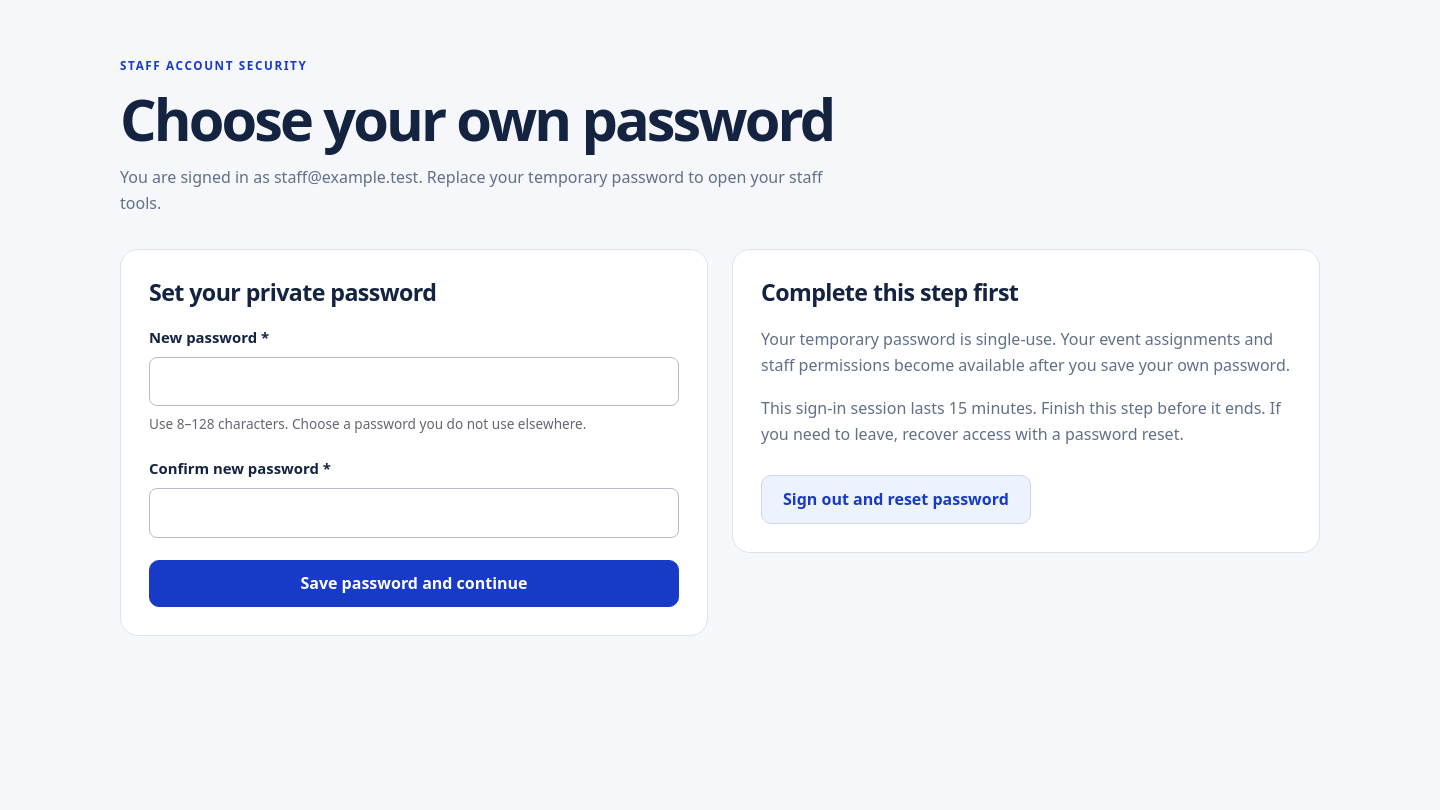
Test: rejects invalid password length before requesting change
The width and height of the screenshot is (1440, 810).
Type "short" into the password field named "newPassword". click: {"x": 414, "y": 382}
box: [149,357,679,406]
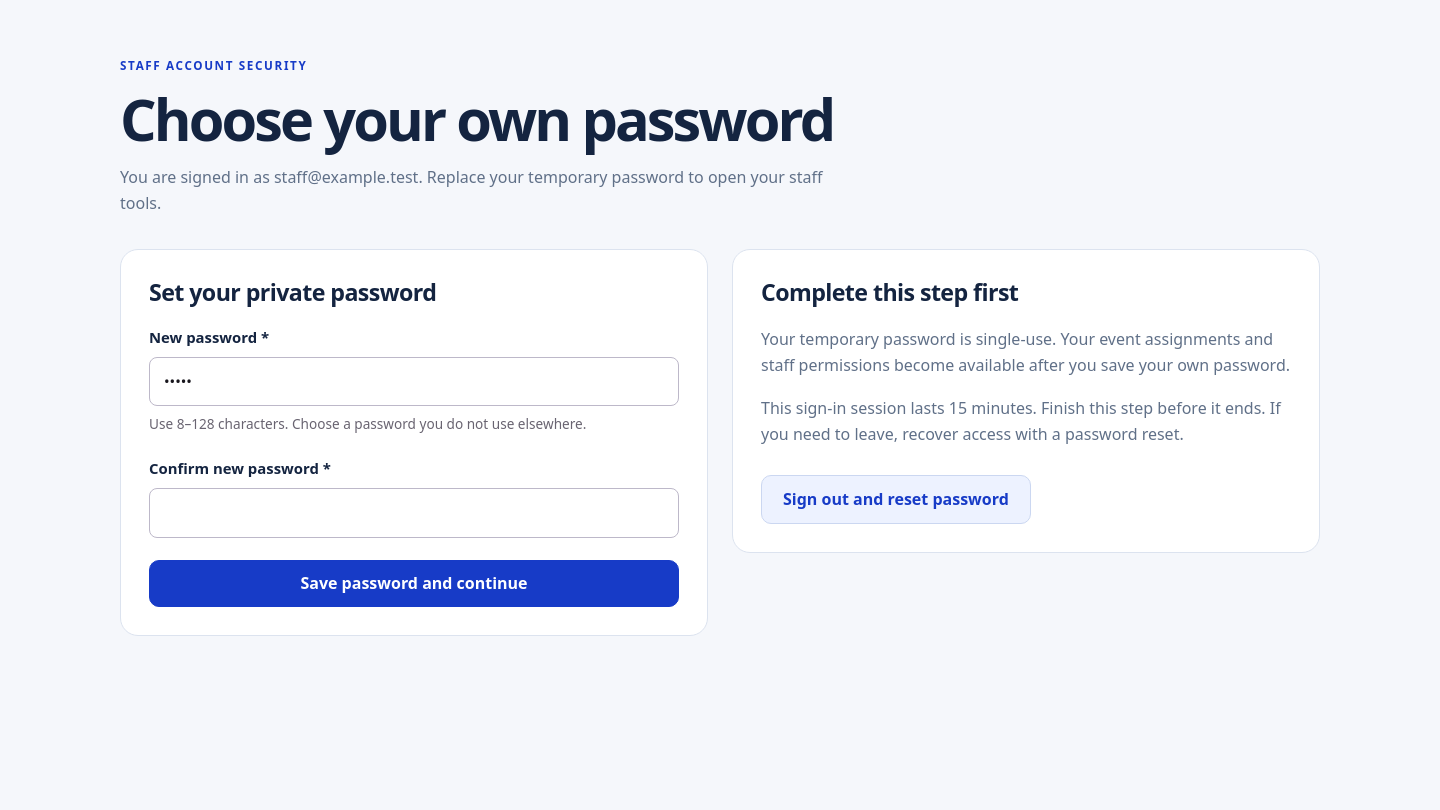
Type "short" into the password field labelled "Confirm new password *". click: {"x": 414, "y": 513}
box: [149,488,679,538]
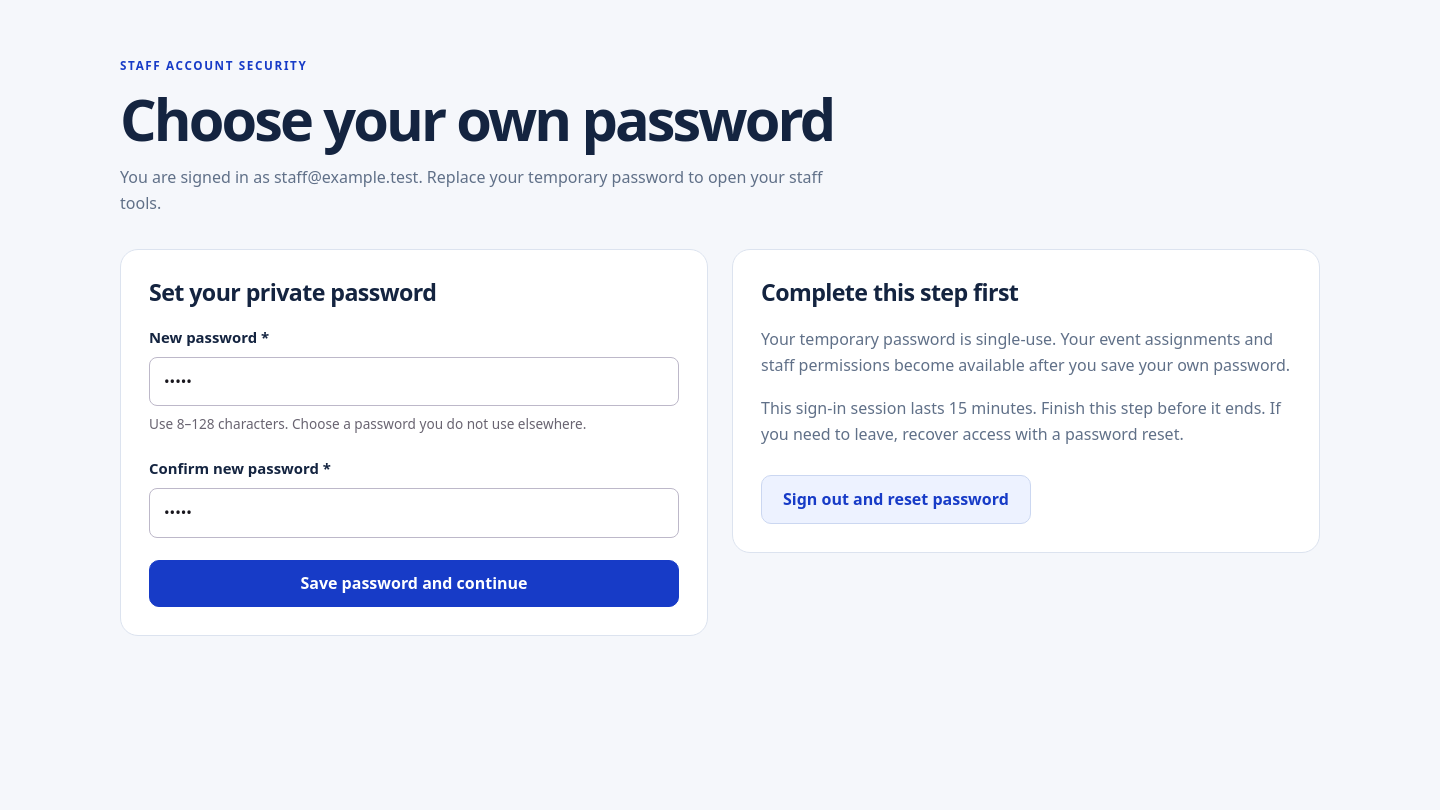
Submit the form, box [149,326,679,607]
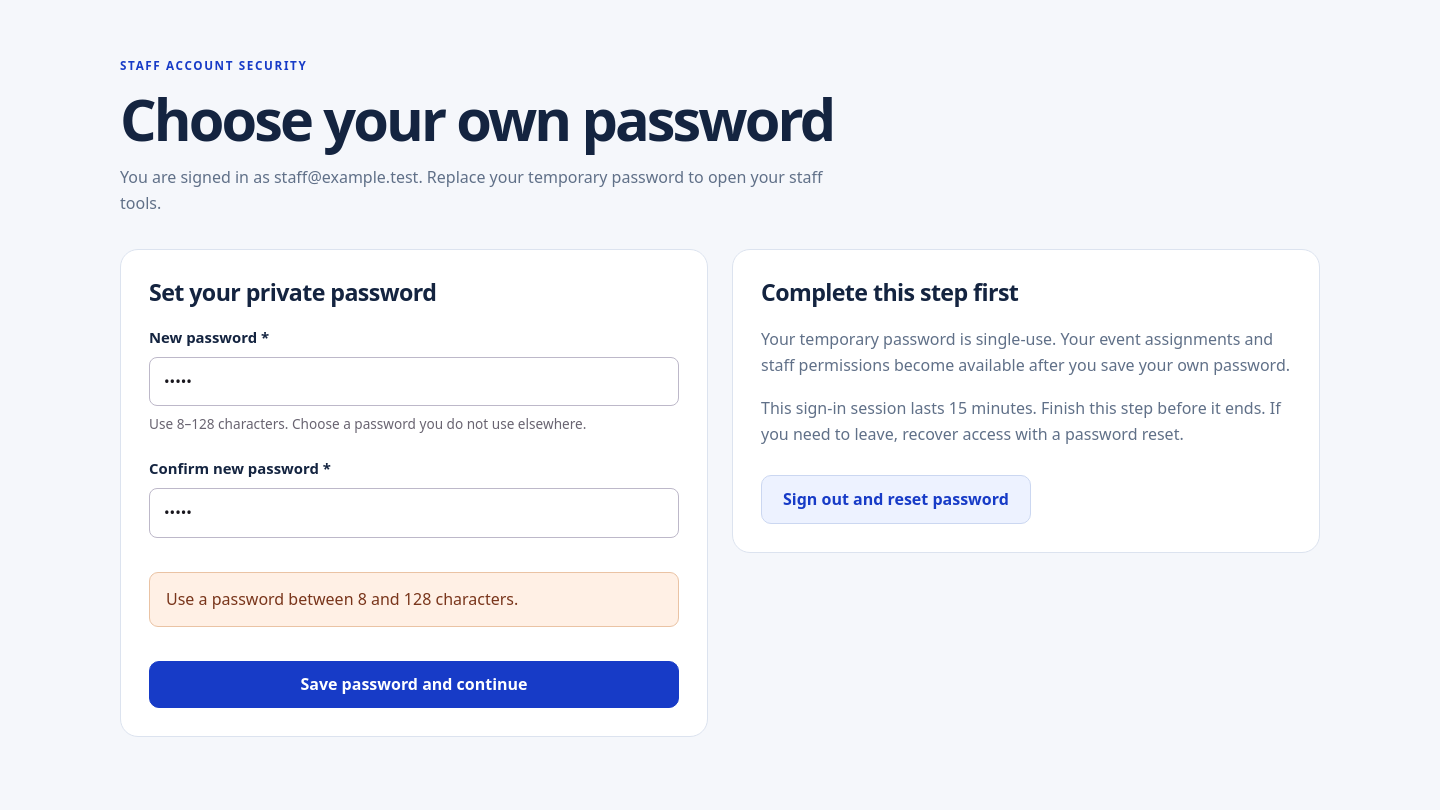
Expected: the message "Use a password between 8 and 128 characters." is shown, [149,572,679,627]
